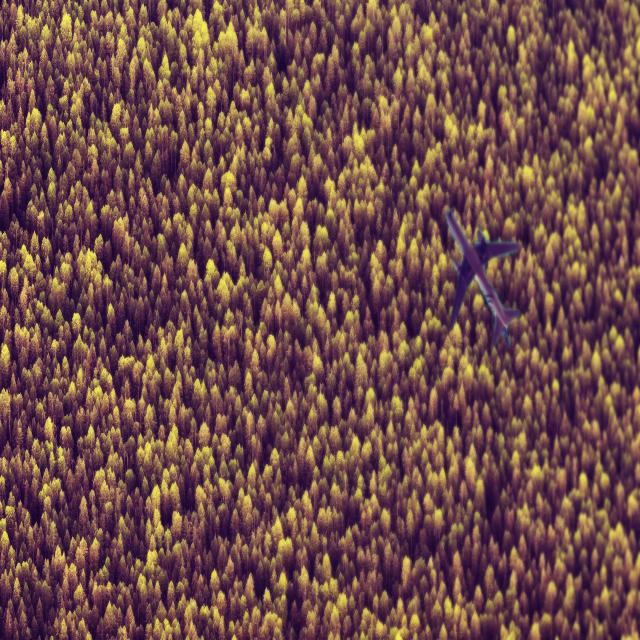airplane: (445, 207, 521, 348)
